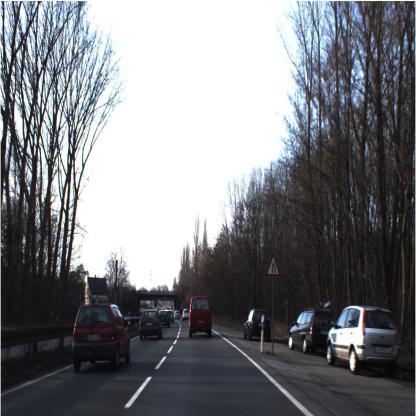danger: (264, 253, 283, 280)
